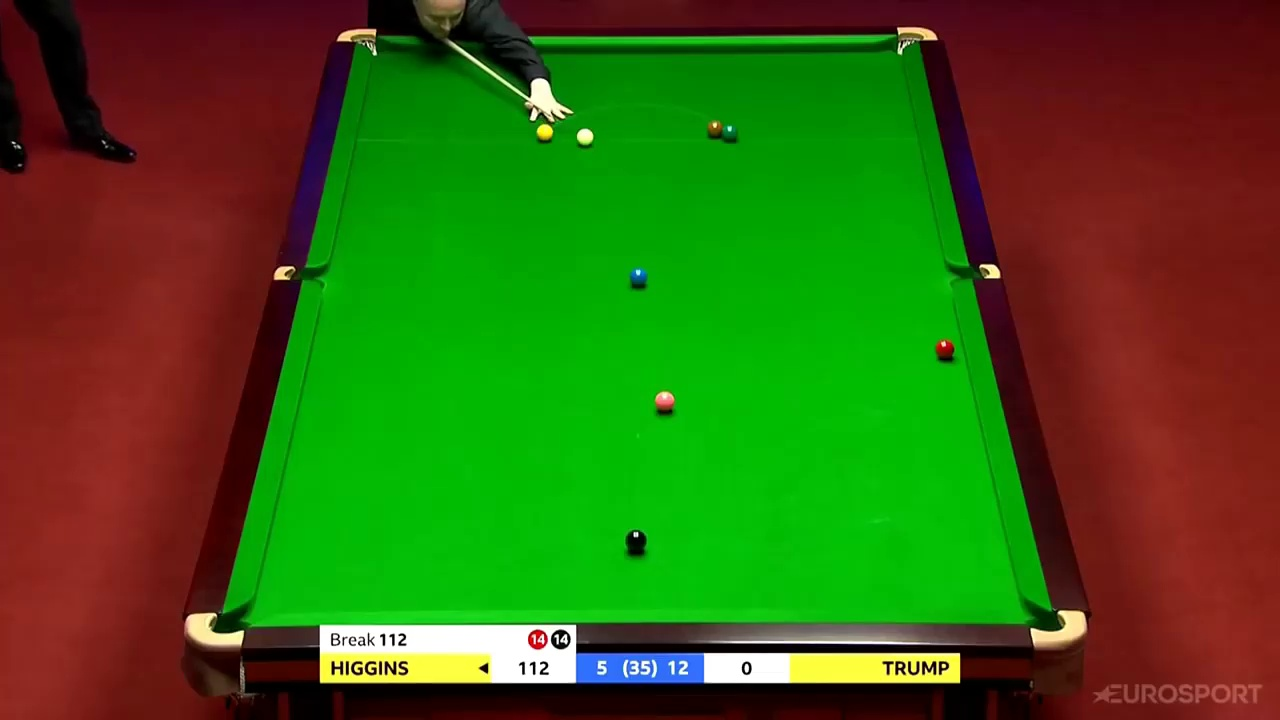ball: (652, 389, 673, 412), (934, 340, 956, 361), (626, 528, 646, 549), (535, 124, 555, 143), (722, 122, 741, 141), (628, 266, 647, 284), (575, 130, 593, 146)
